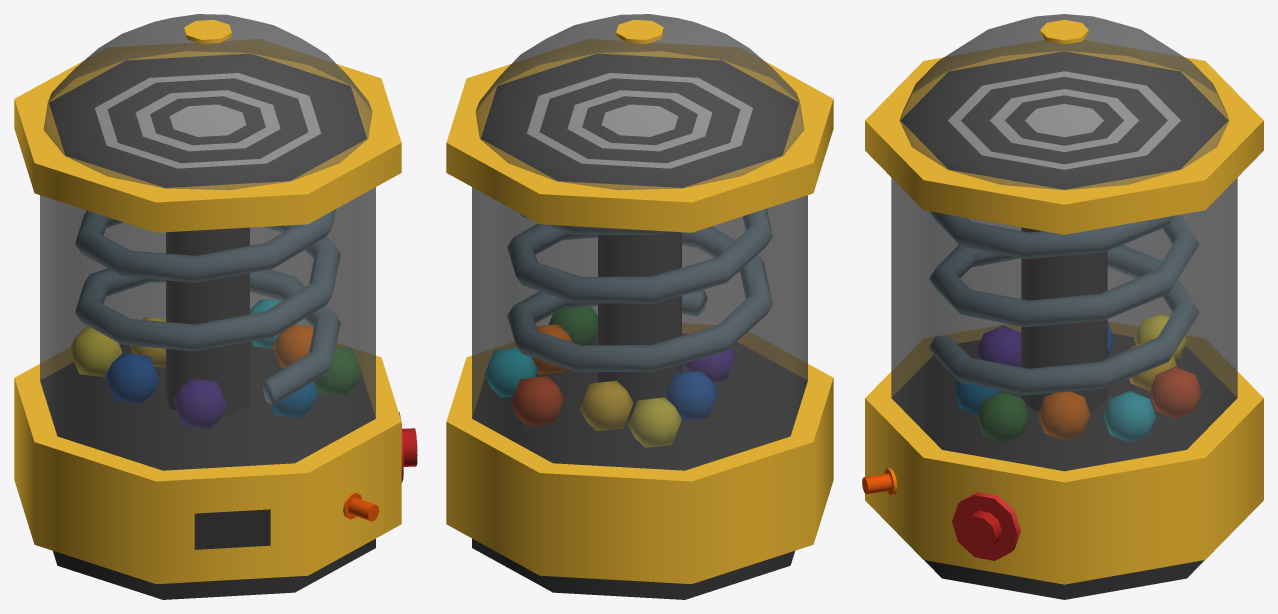
File: Vendin_machine1.fbx
The picture shows the model from 3 angles, left to right: view 1: azimuth 30°, elevation 25°; view 2: azimuth 150°, elevation 25°; view 3: azimuth 270°, elevation 25°; orthographic projection.
Parts seen in each view (by area): view 1: Vendin_machine1; view 2: Vendin_machine1; view 3: Vendin_machine1.
Boxes of the visible parts, x1,y1,x2,y2 form: Vendin_machine1: (14,14,417,599); Vendin_machine1: (446,14,833,599); Vendin_machine1: (862,14,1263,599).
Size of the model in its own units: 0.5114 by 0.7027 by 0.5153.
